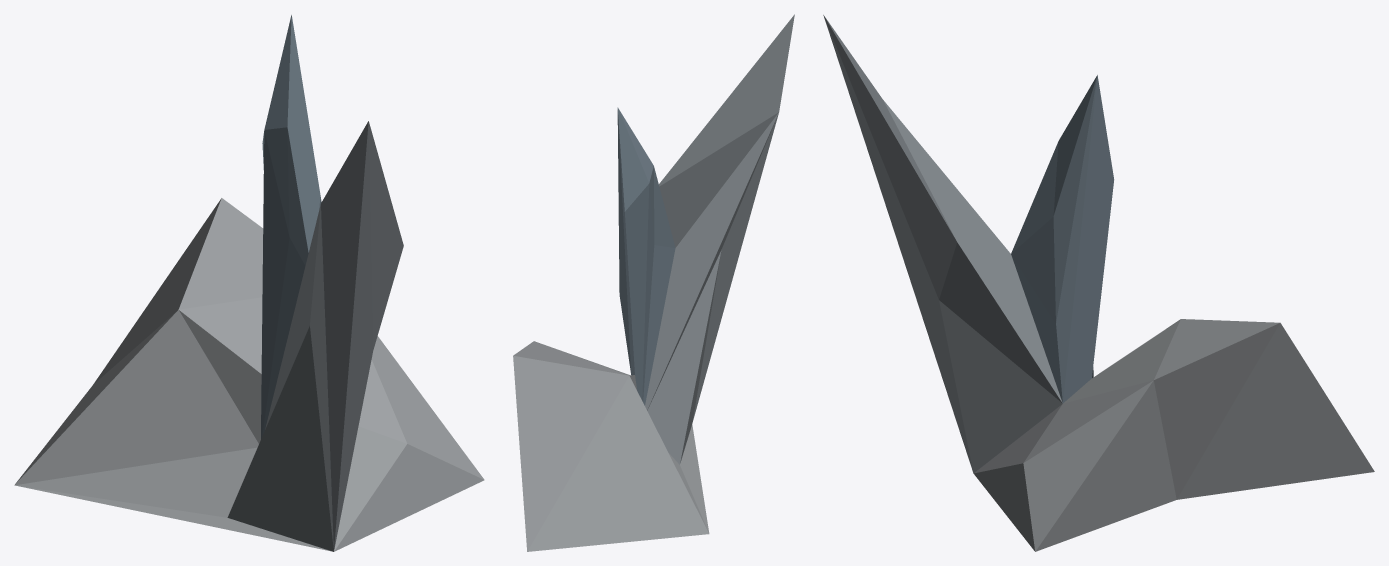
The model's file is rock08.fbx.
The picture shows the model from 3 angles, left to right: view 1: azimuth 30°, elevation 25°; view 2: azimuth 150°, elevation 25°; view 3: azimuth 270°, elevation 25°; orthographic projection. The views are drawn at different scales.
Parts seen in each view (by area): view 1: pCube5; view 2: pCube5; view 3: pCube5.
Part boxes in pixels (x1,y1,x2,y2): pCube5: [14, 15, 484, 551]; pCube5: [513, 14, 794, 551]; pCube5: [823, 15, 1374, 551].
Bounding box in the file's own units: 0.1488 × 0.2025 × 0.2306.
